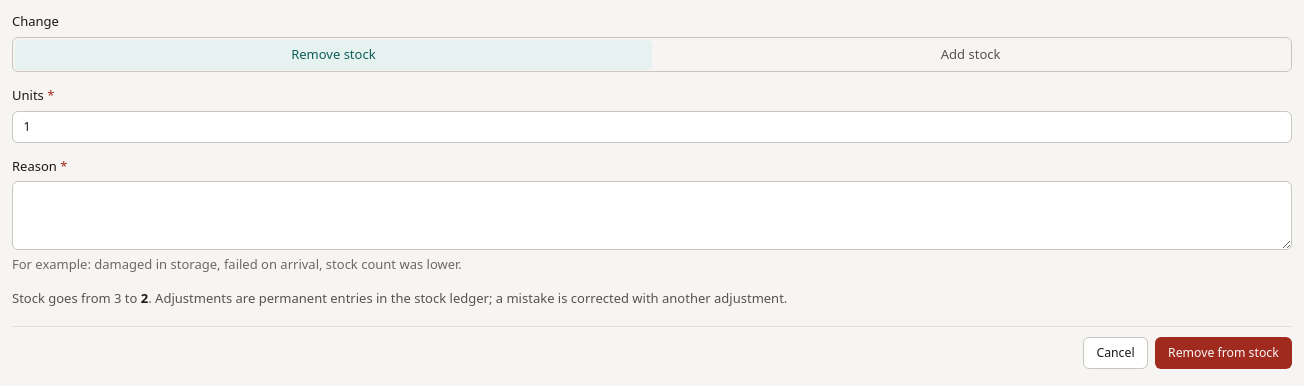
Test: AdjustForm › needs a reason and will not remove more than is in stock
Step 1. Replace the text in the field labelled "Units *" with "4" → (652,127), box [12,111,1292,142]
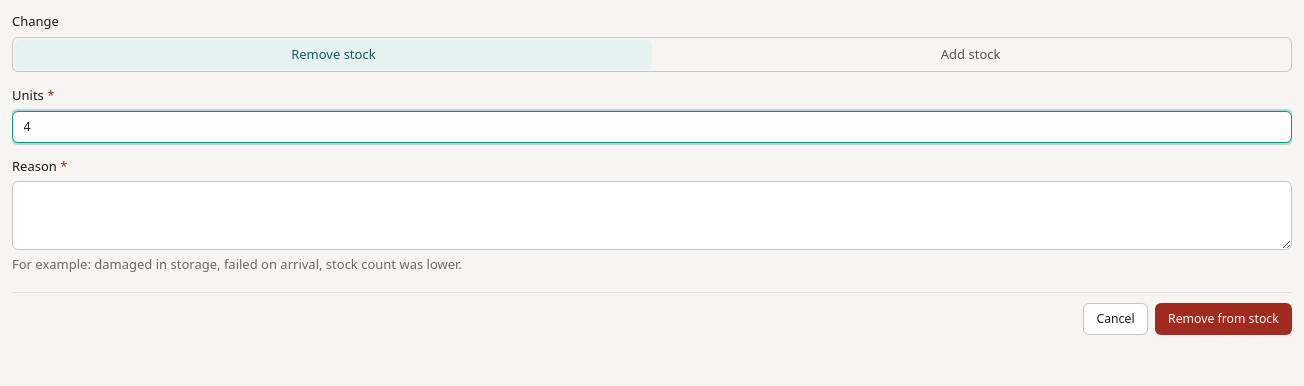
Step 2. Click the button "Remove from stock" → (1223,319), box [1155,304,1292,335]
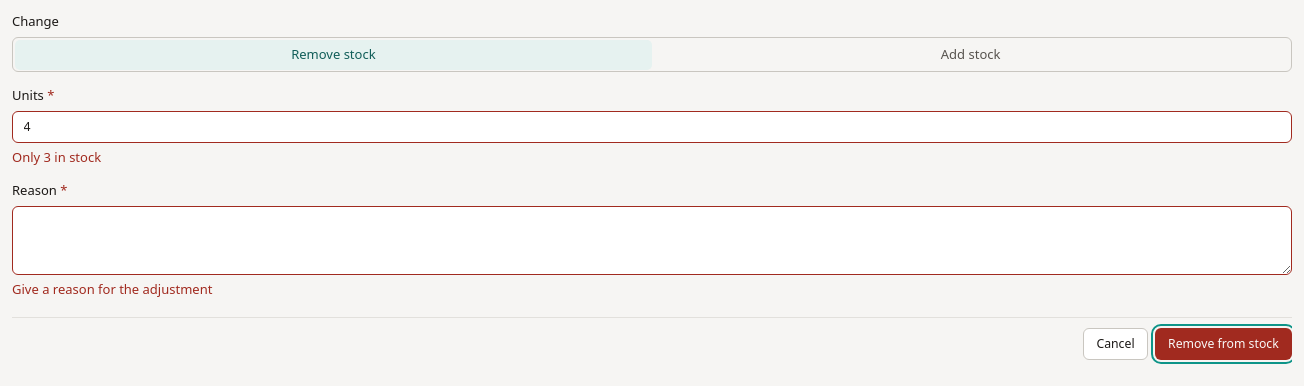
Expected: the text "Only 3 in stock" is shown, [12,148,101,166]
Expected: the text "Give a reason for the adjustment" is shown, [12,280,212,298]
